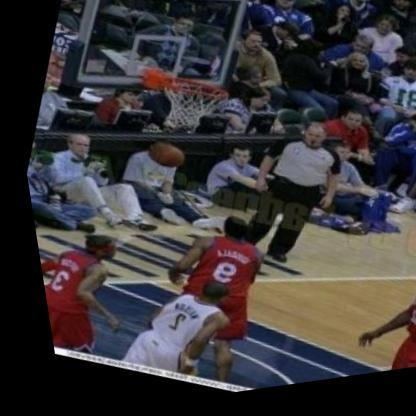basketball: (132, 133, 189, 183)
